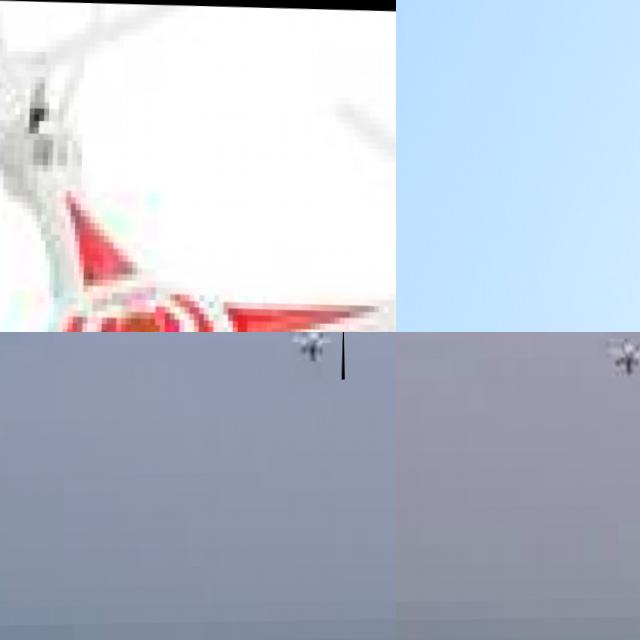drone: (0, 0, 396, 332), (278, 332, 344, 380), (600, 332, 640, 381)
